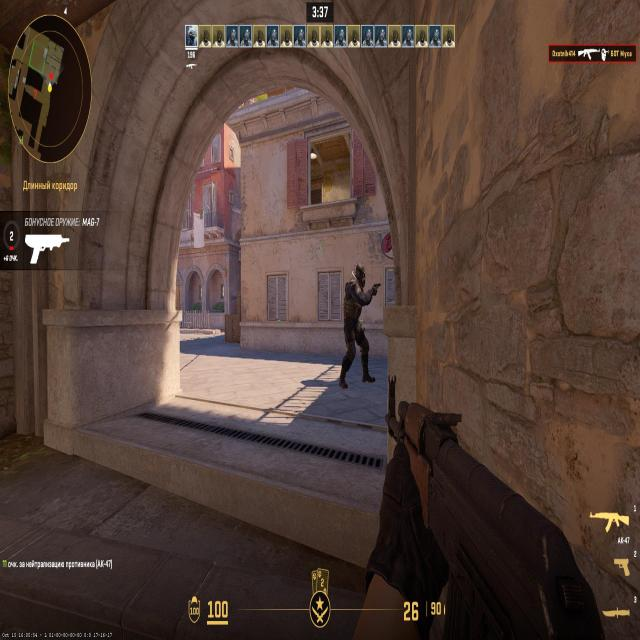CT: (345, 266, 364, 380)
CT_heat: (356, 268, 362, 286)
